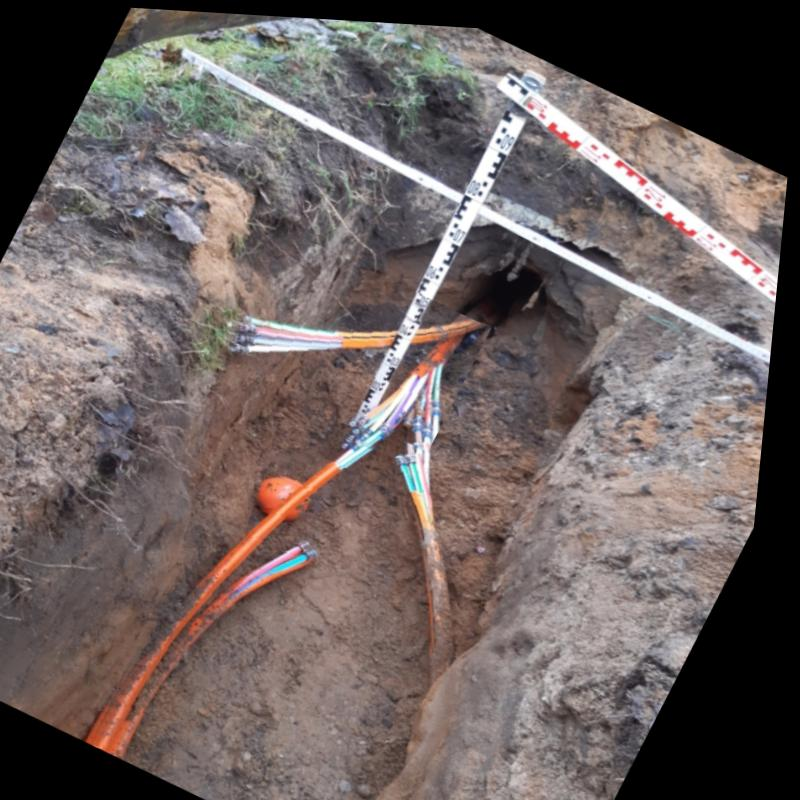Kugelmarker: (267, 474, 323, 515)
Orang-Speednetrohrchen: (105, 456, 351, 756), (238, 306, 493, 444), (403, 442, 464, 652)
